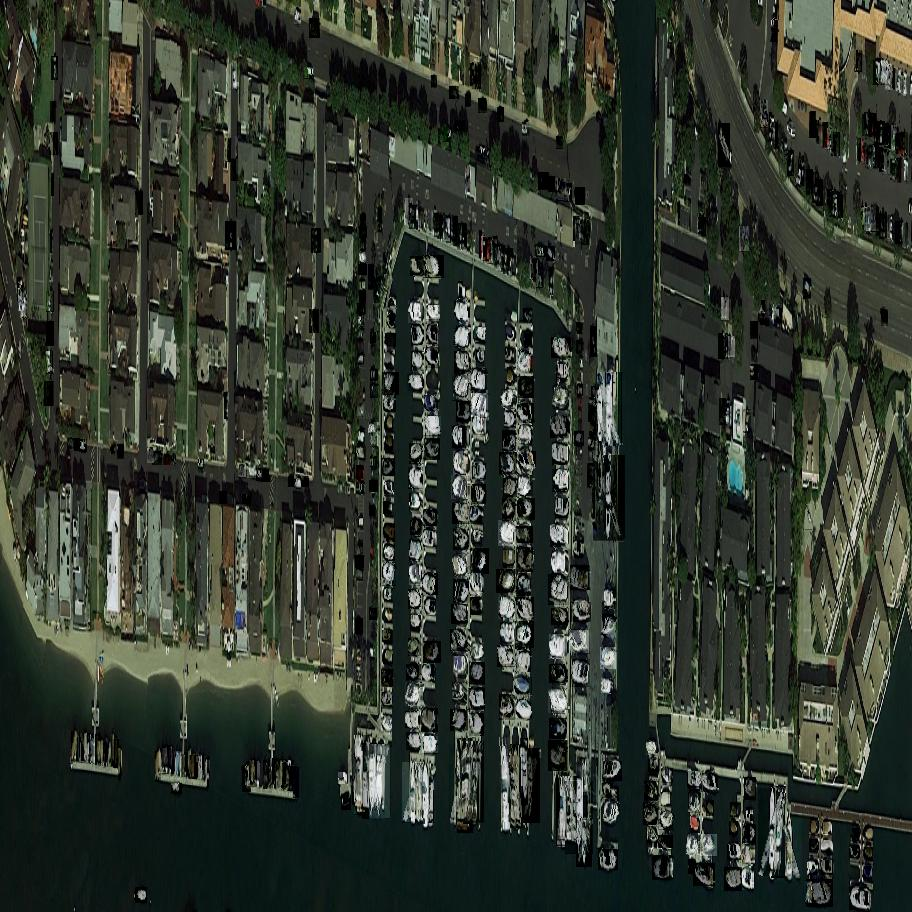large-vehicle: (714, 124, 733, 167)
ship: (594, 454, 625, 541), (758, 789, 785, 876), (565, 780, 594, 855), (598, 372, 623, 447), (362, 742, 385, 820), (458, 738, 476, 833), (370, 745, 393, 819), (777, 814, 802, 882), (465, 742, 485, 823), (450, 744, 470, 824), (522, 748, 541, 824), (402, 763, 425, 823), (771, 786, 786, 877), (509, 745, 523, 828), (560, 776, 578, 840), (416, 763, 433, 829), (592, 385, 612, 441), (556, 772, 570, 847), (501, 737, 511, 831), (355, 735, 366, 814), (806, 877, 833, 909), (576, 819, 593, 867), (546, 740, 571, 771), (547, 575, 572, 605), (569, 627, 592, 657), (362, 735, 371, 810), (548, 687, 571, 714), (414, 764, 424, 824), (570, 659, 591, 687), (496, 569, 518, 595), (570, 565, 592, 591), (497, 520, 518, 547), (469, 390, 490, 417), (451, 374, 472, 401), (515, 622, 536, 649), (601, 801, 622, 828), (423, 253, 444, 280), (570, 599, 591, 625), (652, 855, 673, 881), (469, 548, 490, 574), (515, 594, 534, 622), (552, 385, 572, 411), (451, 475, 471, 500), (451, 628, 471, 653), (698, 835, 719, 858), (516, 448, 536, 472), (549, 662, 569, 686), (598, 848, 618, 872), (515, 547, 534, 572), (405, 682, 424, 707), (498, 694, 516, 720), (468, 687, 486, 713), (521, 739, 528, 805), (694, 863, 714, 886), (500, 453, 519, 477), (498, 645, 517, 669), (724, 867, 743, 891), (600, 614, 619, 638), (452, 579, 471, 603), (422, 415, 441, 439), (643, 802, 662, 826), (471, 368, 489, 393), (453, 527, 471, 552), (849, 888, 869, 910), (517, 376, 536, 399), (453, 326, 472, 349), (453, 554, 472, 577), (517, 401, 535, 425), (452, 501, 470, 525), (701, 770, 719, 794), (454, 350, 471, 375), (550, 634, 567, 659), (517, 499, 536, 521), (551, 605, 570, 627), (423, 642, 442, 664), (499, 597, 517, 620), (511, 677, 534, 695), (469, 662, 487, 685), (451, 709, 469, 732), (382, 372, 400, 395), (515, 648, 532, 672), (421, 708, 438, 732), (79, 732, 92, 763), (469, 712, 485, 737), (515, 525, 533, 547), (518, 475, 536, 497), (551, 416, 569, 438), (514, 698, 532, 720), (600, 647, 618, 669), (516, 351, 533, 374), (381, 563, 398, 586), (502, 497, 518, 521), (454, 300, 470, 324), (551, 551, 566, 576), (552, 470, 569, 492), (516, 574, 533, 596), (422, 573, 439, 595), (424, 438, 441, 460), (686, 833, 702, 856), (452, 602, 468, 625), (551, 338, 570, 357), (549, 719, 567, 739), (602, 762, 622, 780), (269, 759, 281, 789), (409, 443, 426, 464), (275, 759, 287, 788), (551, 524, 566, 547), (744, 777, 759, 800), (570, 804, 580, 838), (469, 573, 484, 595), (408, 467, 423, 489), (645, 780, 660, 802), (454, 451, 467, 476), (411, 324, 425, 347), (659, 811, 675, 831), (284, 760, 294, 792), (407, 662, 423, 682), (519, 426, 534, 447), (503, 430, 518, 451), (453, 426, 467, 448), (500, 390, 516, 409), (408, 374, 424, 393), (423, 509, 439, 528), (503, 478, 518, 498), (456, 401, 471, 421), (742, 824, 757, 844), (406, 731, 421, 751), (471, 642, 486, 662), (409, 590, 424, 610), (409, 300, 422, 323), (472, 414, 486, 435), (688, 793, 702, 814), (553, 443, 566, 465), (687, 770, 702, 789), (406, 711, 421, 730), (472, 484, 486, 504), (582, 760, 590, 795), (422, 737, 438, 754), (242, 765, 252, 792), (555, 498, 569, 517), (382, 523, 396, 542), (410, 257, 424, 276), (501, 622, 513, 644), (741, 866, 752, 890), (409, 541, 422, 561), (103, 744, 114, 767), (382, 544, 396, 562), (166, 748, 175, 776), (408, 639, 422, 657), (453, 657, 467, 675), (426, 347, 438, 368), (598, 442, 602, 504), (71, 731, 79, 762), (422, 665, 435, 684), (453, 682, 466, 701), (85, 737, 94, 764), (743, 845, 755, 865), (429, 775, 434, 823), (412, 351, 424, 371), (383, 395, 397, 412), (426, 304, 440, 321), (287, 766, 296, 792), (381, 669, 394, 687), (383, 459, 396, 477), (135, 887, 148, 905), (162, 745, 170, 774), (189, 755, 198, 780), (247, 761, 256, 786), (424, 395, 438, 411), (646, 740, 659, 757), (409, 565, 420, 585), (155, 751, 162, 782), (604, 590, 615, 609), (426, 325, 437, 344), (250, 760, 258, 786), (159, 748, 167, 774), (382, 692, 394, 709), (197, 755, 205, 780), (173, 752, 181, 777), (470, 597, 481, 615), (424, 529, 435, 547), (728, 845, 742, 859), (473, 464, 486, 479), (503, 551, 515, 567), (704, 800, 716, 816), (176, 753, 184, 777), (97, 741, 105, 765), (411, 520, 423, 536), (648, 758, 660, 774), (504, 411, 515, 428), (471, 506, 482, 523), (573, 541, 584, 558), (425, 597, 436, 614), (410, 494, 421, 511), (647, 827, 658, 844), (804, 881, 812, 904), (556, 365, 568, 380), (662, 768, 674, 783), (381, 715, 392, 731), (113, 739, 119, 768), (659, 835, 672, 848), (821, 860, 833, 874), (382, 630, 394, 644), (475, 328, 486, 343), (850, 844, 861, 859), (602, 679, 613, 694), (383, 649, 394, 664), (730, 802, 740, 818), (96, 734, 101, 765), (807, 861, 818, 875), (410, 615, 421, 629), (385, 333, 396, 347), (342, 793, 351, 810), (505, 348, 515, 363), (293, 768, 298, 798), (386, 314, 396, 329), (263, 760, 268, 789), (507, 368, 515, 386), (473, 530, 483, 544), (172, 781, 182, 795), (89, 740, 95, 763), (730, 821, 739, 836), (385, 415, 394, 430), (863, 866, 873, 879), (506, 327, 514, 343), (661, 792, 670, 806), (603, 783, 612, 797), (352, 779, 357, 804), (864, 829, 874, 841), (612, 787, 620, 802), (810, 838, 819, 851), (389, 297, 398, 310), (524, 309, 532, 323), (691, 817, 699, 831), (821, 840, 830, 852), (864, 847, 873, 859), (384, 502, 393, 514), (384, 483, 393, 495), (524, 334, 532, 347), (852, 828, 860, 841), (184, 752, 188, 777), (810, 822, 818, 834), (385, 437, 393, 449), (188, 749, 191, 780), (118, 748, 121, 779), (689, 859, 695, 874), (476, 351, 484, 362), (458, 282, 463, 297), (824, 823, 831, 833), (339, 773, 345, 784), (385, 589, 391, 600), (746, 808, 751, 821), (111, 735, 113, 766), (206, 758, 208, 788), (386, 353, 391, 365), (104, 739, 106, 768), (257, 761, 259, 787), (283, 764, 285, 787)
small-vehicle: (373, 268, 389, 291), (737, 227, 752, 251), (225, 222, 237, 251), (794, 156, 805, 187), (484, 237, 496, 264), (555, 179, 569, 201), (310, 229, 322, 254), (829, 192, 840, 217), (718, 333, 729, 358), (438, 214, 449, 239), (768, 301, 778, 328), (472, 62, 482, 89), (457, 223, 467, 250), (804, 505, 815, 529), (309, 309, 320, 333), (902, 223, 911, 252), (884, 64, 894, 90), (575, 218, 585, 244), (827, 189, 838, 212), (45, 381, 55, 406), (504, 249, 514, 274), (404, 198, 414, 223), (724, 336, 735, 358), (722, 297, 732, 321), (742, 409, 752, 433), (876, 121, 886, 145), (872, 208, 882, 232), (309, 18, 321, 38), (49, 131, 59, 155), (367, 265, 377, 289), (487, 239, 497, 263), (538, 171, 550, 191), (498, 246, 507, 272), (866, 208, 876, 231), (46, 322, 56, 345), (581, 220, 590, 245), (802, 278, 813, 298), (875, 147, 885, 169), (590, 326, 597, 357), (832, 133, 841, 157), (135, 191, 144, 215), (372, 279, 381, 303), (879, 149, 888, 173), (862, 206, 871, 230), (575, 187, 587, 205), (816, 180, 824, 206), (881, 216, 890, 239), (529, 256, 538, 279), (587, 404, 599, 421), (232, 60, 239, 89), (787, 151, 795, 176), (807, 170, 815, 195), (871, 207, 879, 232), (443, 216, 451, 241), (882, 62, 891, 84), (896, 133, 905, 155), (46, 351, 55, 373), (889, 125, 897, 149), (778, 137, 786, 161), (865, 113, 873, 137), (873, 60, 881, 84), (876, 58, 884, 82), (879, 62, 887, 86), (901, 132, 909, 156), (51, 56, 59, 80), (495, 244, 503, 268), (410, 206, 418, 230), (564, 183, 574, 202), (761, 100, 768, 127), (232, 159, 241, 180), (813, 172, 819, 203), (862, 114, 870, 137), (867, 146, 875, 169), (471, 63, 479, 86), (483, 239, 491, 262), (834, 192, 841, 218), (766, 301, 773, 327), (892, 125, 899, 151), (536, 261, 543, 287), (750, 321, 760, 339), (697, 213, 705, 235), (889, 68, 897, 90), (897, 222, 905, 244), (885, 152, 893, 174), (894, 158, 902, 180), (356, 445, 367, 461), (810, 112, 817, 137), (508, 253, 515, 278), (574, 216, 581, 241), (546, 245, 556, 262), (855, 51, 863, 72), (873, 144, 880, 168), (579, 219, 586, 243), (574, 431, 585, 446), (443, 127, 454, 142), (719, 398, 725, 425), (54, 408, 60, 435), (437, 216, 444, 239), (536, 243, 546, 259), (432, 210, 438, 236), (587, 437, 598, 451), (898, 69, 905, 91), (895, 68, 902, 90), (357, 428, 366, 445), (17, 292, 25, 311), (47, 293, 55, 312), (501, 250, 509, 269), (823, 122, 829, 147), (138, 479, 148, 494), (370, 384, 380, 399), (827, 128, 834, 149), (382, 253, 389, 274), (51, 102, 58, 123), (494, 236, 499, 265), (810, 172, 816, 196), (884, 123, 890, 147), (880, 214, 886, 238), (890, 161, 898, 179), (479, 97, 488, 113), (481, 236, 487, 260), (547, 176, 556, 192), (368, 422, 379, 435), (450, 85, 460, 99), (455, 118, 465, 132), (153, 451, 163, 465), (370, 433, 380, 447), (724, 336, 730, 359), (588, 464, 594, 487), (226, 138, 232, 161), (248, 465, 257, 480), (53, 3, 58, 30), (357, 327, 366, 342), (699, 218, 706, 237), (838, 196, 844, 218), (219, 492, 229, 505), (356, 555, 366, 568), (447, 217, 452, 243), (294, 8, 302, 24), (239, 464, 248, 478), (294, 476, 303, 490), (477, 145, 486, 159), (356, 568, 365, 582), (872, 144, 877, 168), (866, 209, 871, 233), (886, 215, 891, 239), (898, 159, 903, 183), (21, 297, 27, 317), (117, 445, 125, 460), (147, 448, 155, 463), (355, 619, 363, 634), (497, 107, 505, 122), (787, 122, 794, 139), (882, 309, 889, 326), (305, 66, 314, 79), (454, 217, 458, 246), (877, 212, 882, 235), (817, 120, 822, 143), (534, 258, 539, 281), (263, 468, 271, 482), (479, 230, 483, 258), (872, 114, 877, 136), (866, 146, 871, 168), (358, 264, 367, 276), (463, 224, 467, 251), (359, 290, 366, 305), (435, 216, 440, 237), (556, 136, 564, 149), (369, 608, 377, 621), (378, 207, 382, 232), (80, 438, 87, 452), (589, 397, 597, 409), (303, 476, 311, 488), (358, 353, 366, 365), (360, 227, 368, 239), (358, 303, 366, 315), (164, 454, 172, 466), (49, 261, 53, 284), (360, 238, 367, 251), (751, 364, 757, 379), (858, 139, 862, 161), (677, 202, 681, 224), (722, 297, 726, 319), (288, 476, 296, 487), (359, 279, 366, 291), (577, 385, 584, 396), (256, 469, 263, 480), (371, 369, 378, 380), (370, 481, 377, 492), (357, 518, 364, 529), (801, 161, 804, 186), (870, 113, 873, 137), (903, 72, 906, 96), (243, 495, 251, 504), (432, 75, 438, 87), (465, 94, 471, 106), (358, 404, 364, 416), (67, 438, 74, 448), (523, 122, 528, 136), (890, 216, 893, 239), (589, 450, 595, 461), (358, 315, 364, 326), (74, 440, 80, 451), (371, 456, 377, 467), (771, 28, 776, 41), (773, 5, 778, 18), (776, 308, 781, 321), (577, 340, 582, 353), (861, 141, 864, 161), (590, 423, 595, 435), (684, 174, 689, 186), (761, 300, 766, 312), (235, 137, 238, 157), (357, 466, 362, 478), (357, 483, 363, 493), (772, 15, 776, 29), (770, 113, 772, 141), (361, 214, 366, 225), (577, 323, 582, 334), (358, 543, 363, 554), (359, 252, 365, 261), (198, 460, 204, 469), (776, 123, 778, 149), (551, 268, 553, 294), (369, 505, 374, 515), (172, 456, 177, 466), (450, 219, 452, 244), (110, 447, 116, 455), (50, 230, 52, 253), (371, 333, 376, 342), (52, 174, 54, 196), (417, 208, 419, 230), (896, 223, 898, 244), (888, 125, 890, 146), (905, 160, 907, 181), (18, 280, 20, 301), (772, 127, 774, 147), (864, 143, 866, 163), (761, 315, 765, 325), (730, 406, 732, 426), (409, 204, 411, 224), (723, 407, 725, 425), (225, 393, 226, 418), (727, 400, 728, 424)
